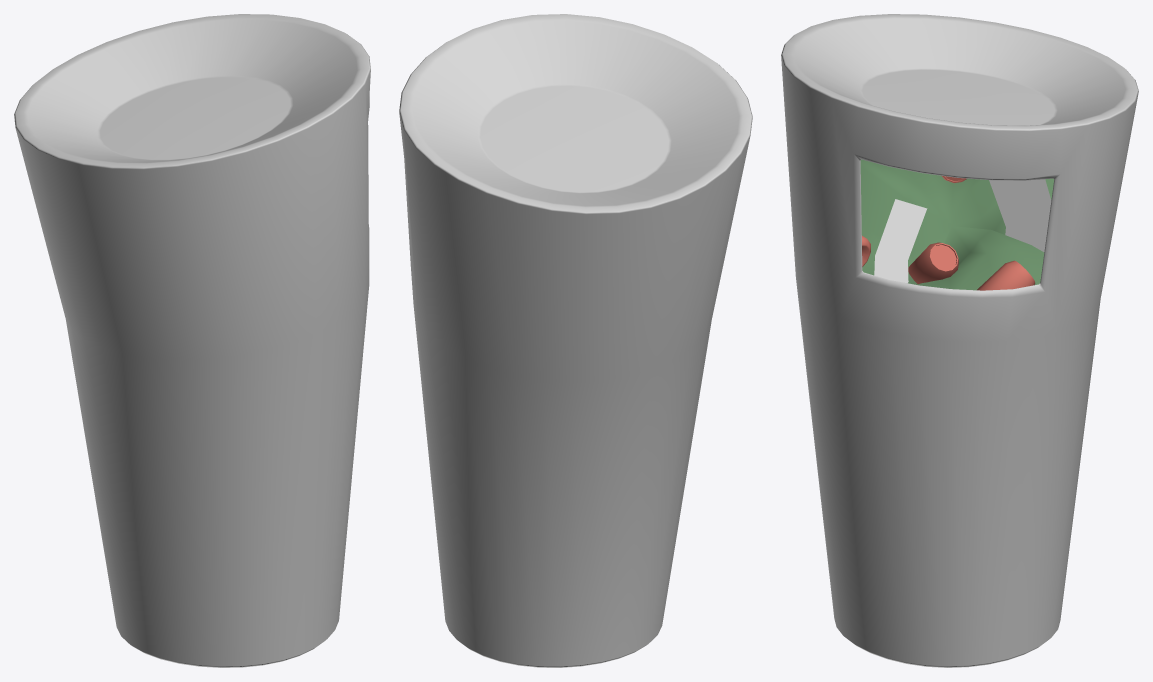
The model's file is BinCylindrical_SM.fbx.
3 views of the same model, side by side, from view 1: azimuth 30°, elevation 25°; view 2: azimuth 150°, elevation 25°; view 3: azimuth 270°, elevation 25° (orthographic). The views are drawn at different scales.
Visible parts, largest first — view 1: Bin; view 2: Bin; view 3: Bin, Plane, Plane.001, Can_Low.001, Can_Low.000.
Part boxes in pixels (x1,y1,x2,y2): Bin: (14, 14, 370, 667); Bin: (399, 14, 752, 667); Bin: (781, 14, 1138, 667); Plane: (989, 179, 1051, 251); Plane.001: (874, 199, 927, 283); Can_Low.001: (908, 242, 958, 284); Can_Low.000: (977, 260, 1035, 290).
Bounding box in the file's own units: 66.07 × 115 × 66.12.
